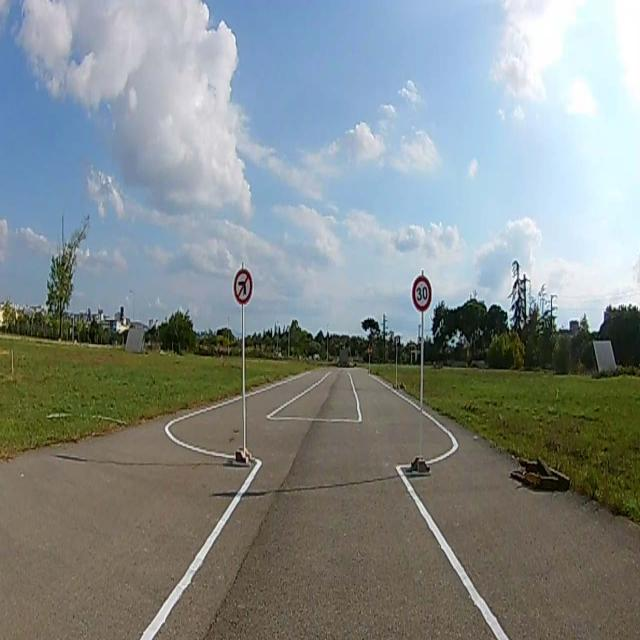30: (413, 278, 433, 310)
soladonulmez: (234, 270, 252, 304)
